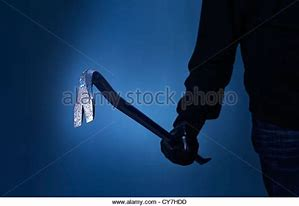crowbar: (72, 67, 213, 169)
